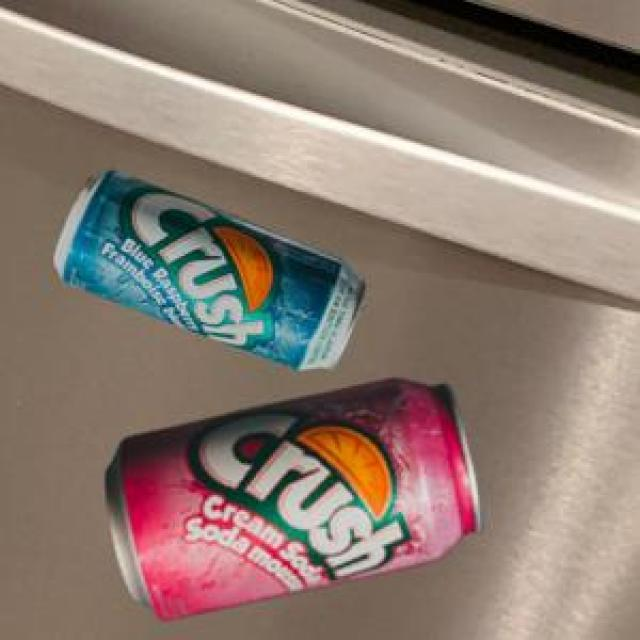Can: (103, 377, 479, 618), (52, 167, 364, 366)
